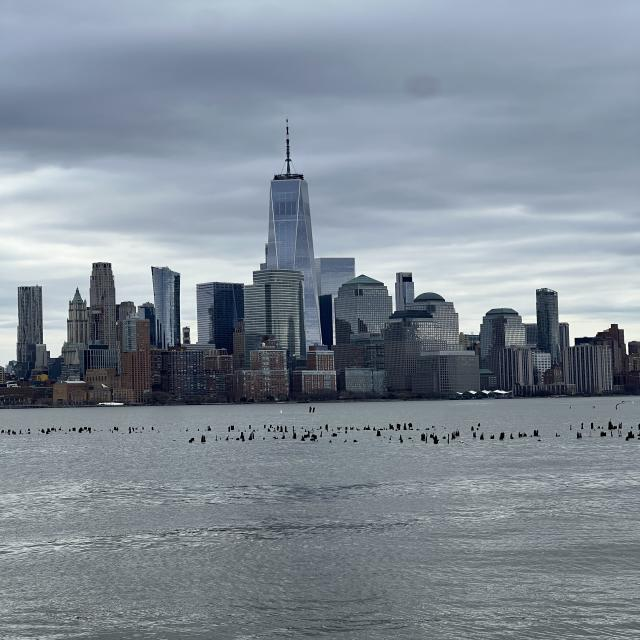WTC: (264, 116, 315, 270)
